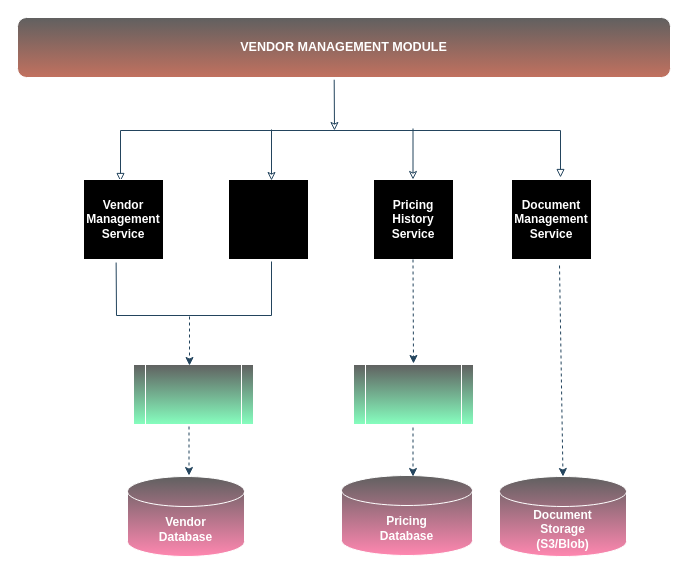
Image size: 688x574. Some labels were removed from this diagram. The centre of each missing label's shape, as x and y in pixels:
Contract Management Service: the point at 268,219
Pricing Data Access Layer: the point at 413,394
Vendor Data Access Layer: the point at 193,394
